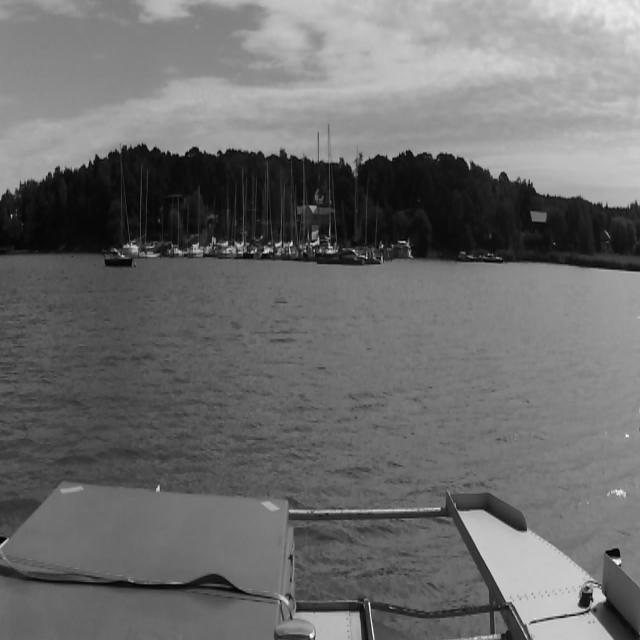ship: (316, 125, 338, 266), (288, 148, 314, 262), (352, 148, 372, 260), (263, 158, 285, 259), (118, 142, 136, 260), (239, 165, 260, 259), (141, 164, 159, 258), (216, 183, 238, 259), (186, 183, 204, 257), (164, 196, 184, 257), (372, 201, 384, 261), (103, 248, 133, 268), (387, 241, 413, 262), (340, 247, 366, 259)
